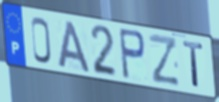0: (30, 16, 53, 65)
2: (89, 24, 119, 80)
A: (57, 19, 92, 75)
P: (117, 26, 147, 82)
T: (181, 39, 205, 91)
Z: (147, 32, 181, 88)
